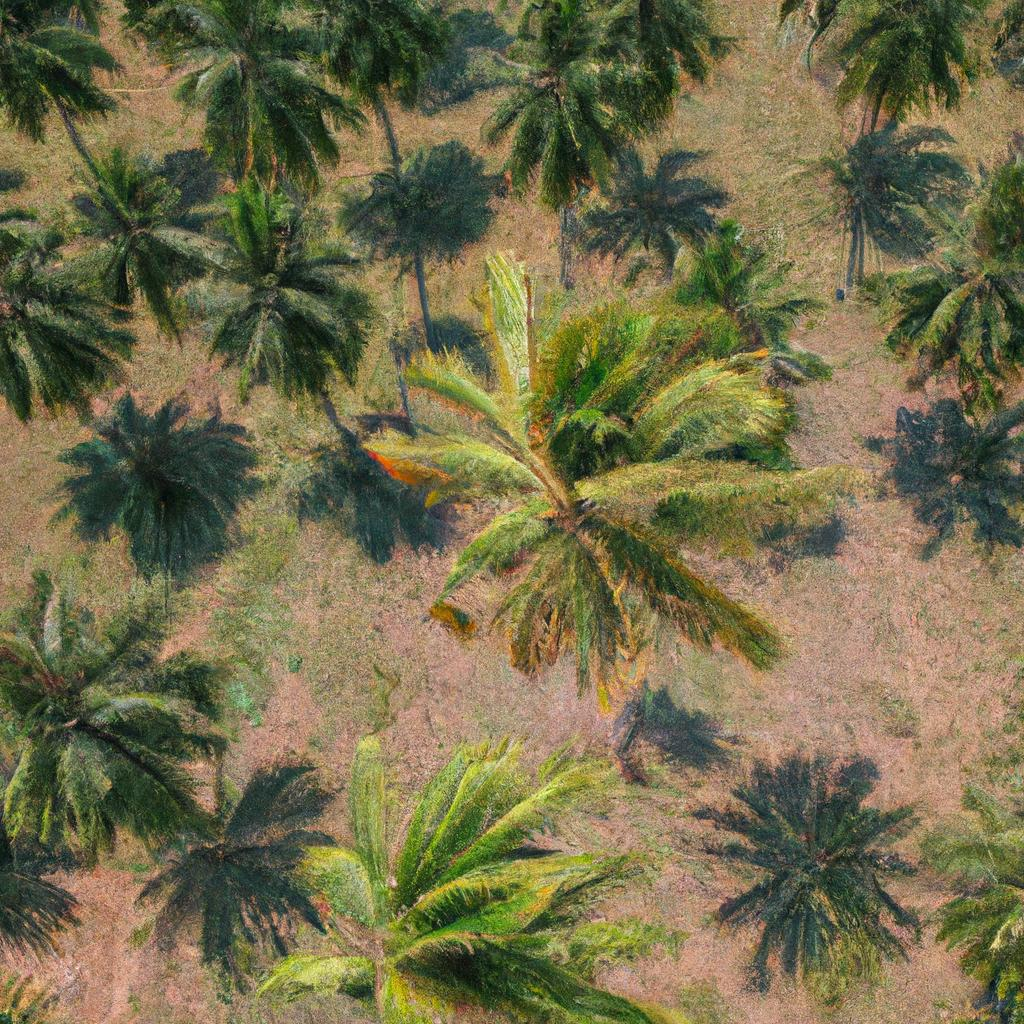coconut_tree: (360, 223, 881, 686), (262, 697, 684, 1021), (0, 562, 246, 877), (466, 2, 714, 202), (195, 170, 370, 410)
